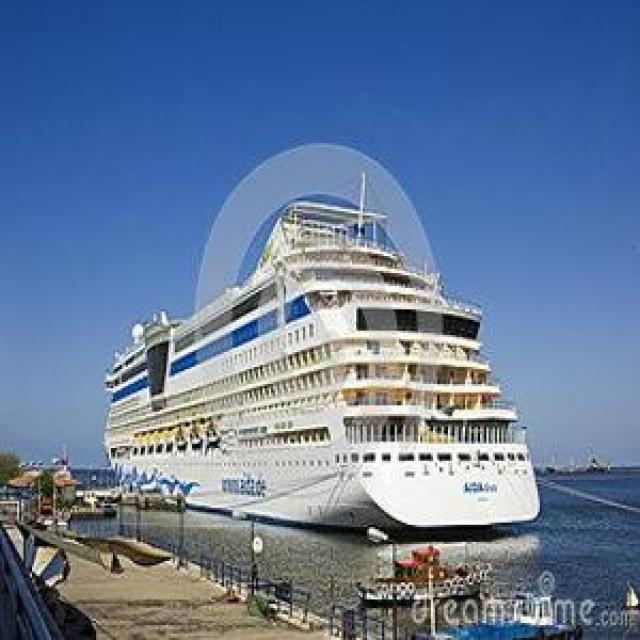houseboat: (352, 539, 491, 604)
passenger ship: (100, 237, 538, 532)
